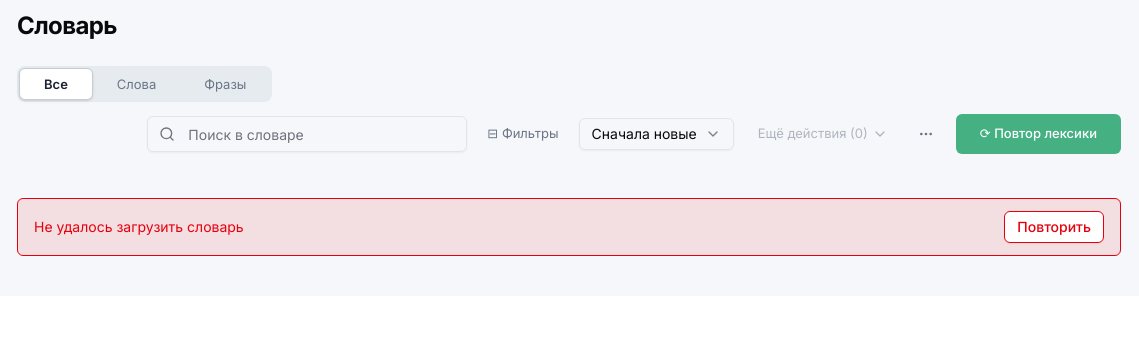
Scenario: VocabularyPage states › shows an inline error with a retry button when the list query fails
The width and height of the screenshot is (1139, 360).
Expected: the message with test id "vocab-error" shows "Не удалось загрузить словарь", [34,218,244,235]
Click the button "Повторить".
click(1054, 227)  # box [1004,211,1104,243]
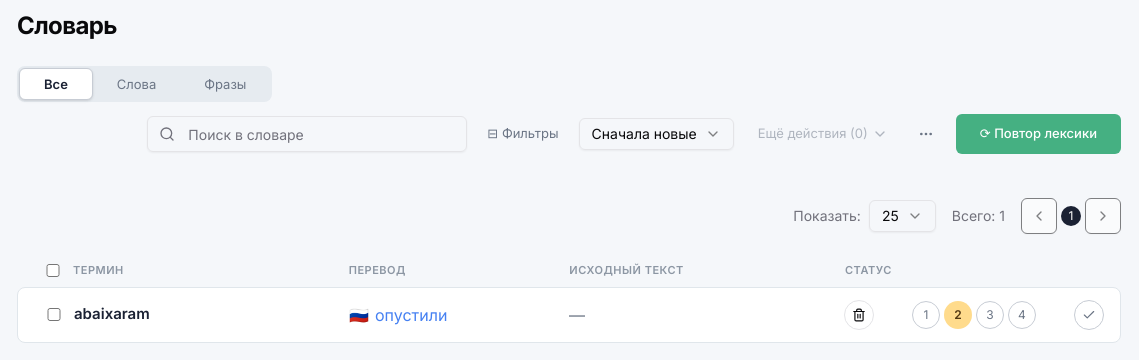
Expected: the message with test id "vocab-error" is gone
